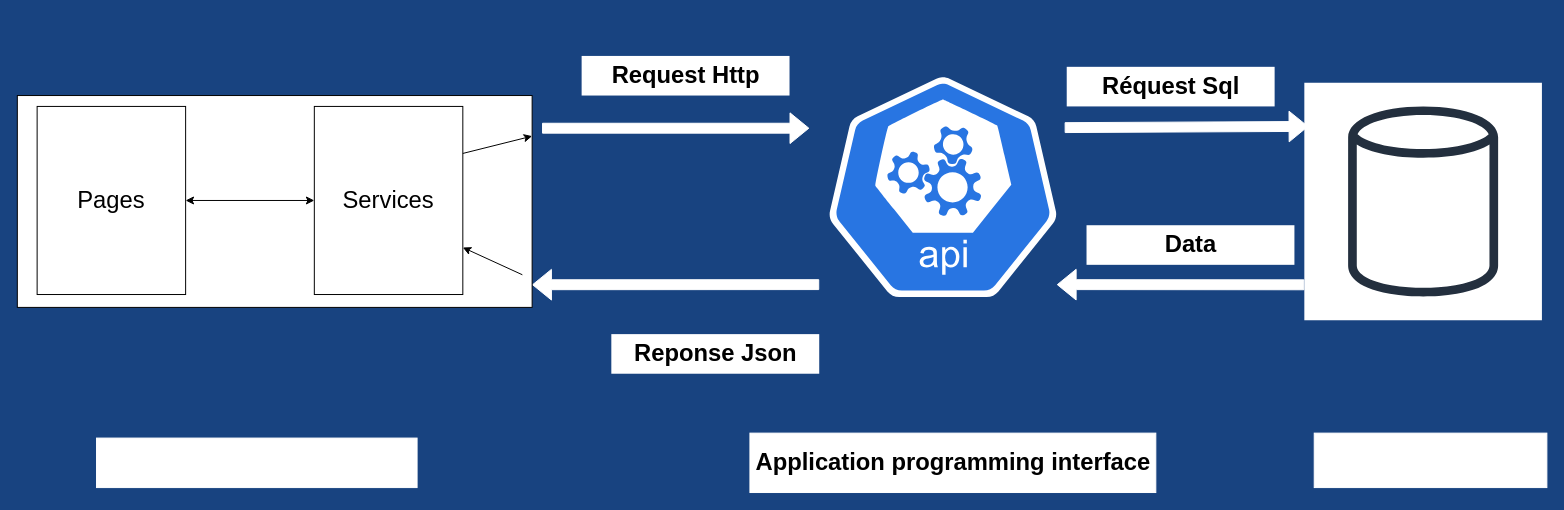
The diagram is 1564 pixels wide and 510 high, and some of its shapes have lost their labels. Each missing label, with the centre of its shape:
"Data Base" goes at pixel 1430 460.
"Generic database" goes at pixel 1422 201.
"Single Page Application" goes at pixel 256 462.
